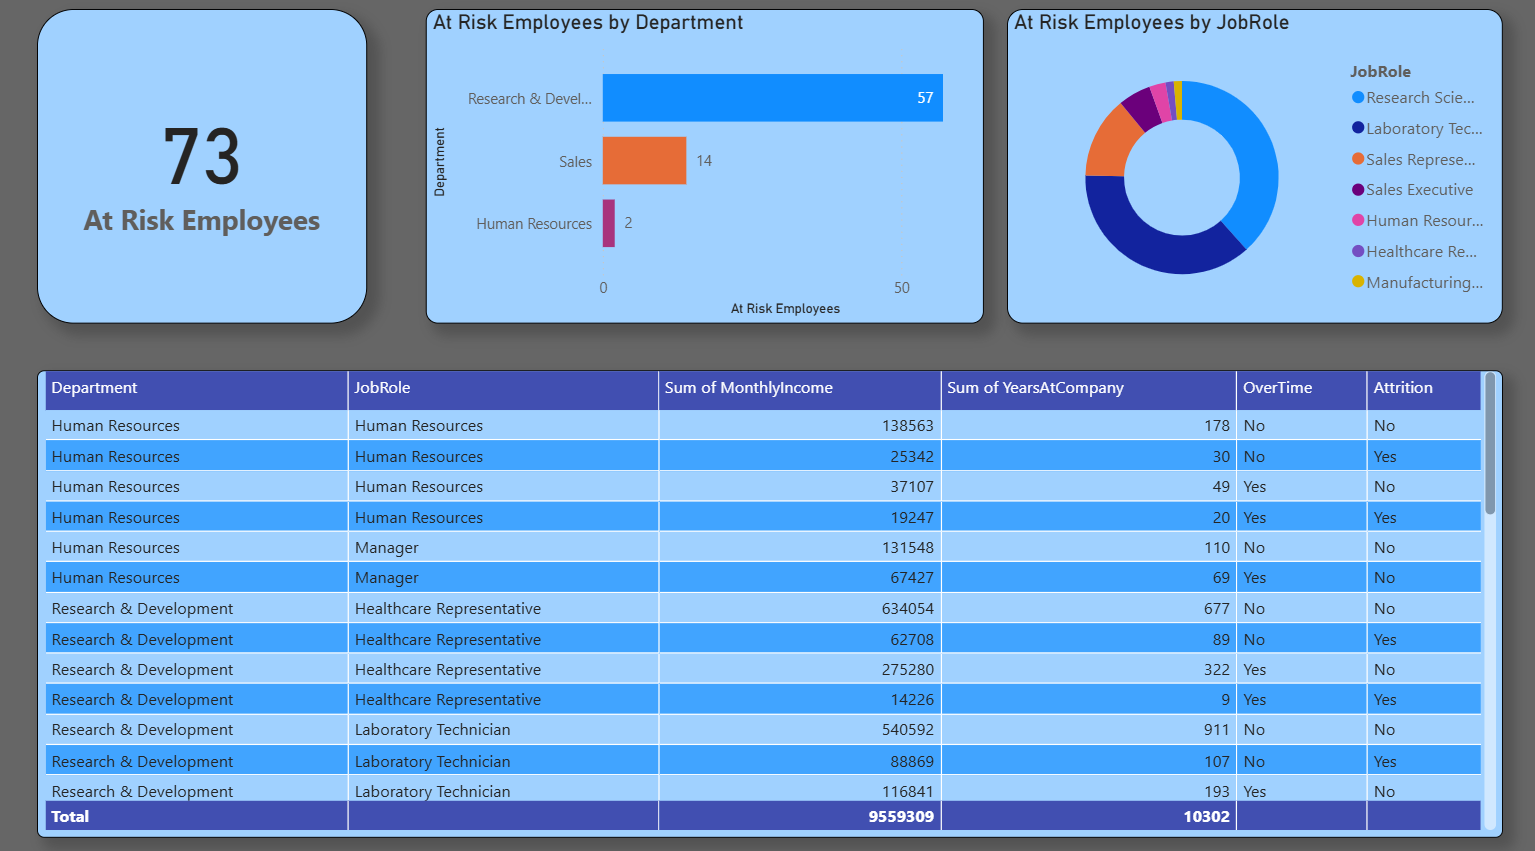

This screenshot's page, from the dashboard's own definition file:
{"tool":"powerbi","page":{"name":"Risk Profile","canvas":[1280,720],"ordinal":2},"visuals":[{"type":"card","fields":{"Values":["WA_Fn-UseC_-HR-Employee-Attrition.At Risk Employees"]},"box":[47.2,20.5,241.3,235.1],"z":0},{"type":"clusteredBarChart","fields":{"Category":["WA_Fn-UseC_-HR-Employee-Attrition.Department"],"Y":["WA_Fn-UseC_-HR-Employee-Attrition.At Risk Employees"]},"box":[352.1,20.5,439.4,235.1],"z":1000},{"type":"tableEx","fields":{"Values":["WA_Fn-UseC_-HR-Employee-Attrition.Department","WA_Fn-UseC_-HR-Employee-Attrition.JobRole","Sum(WA_Fn-UseC_-HR-Employee-Attrition.MonthlyIncome)","Sum(WA_Fn-UseC_-HR-Employee-Attrition.YearsAtCompany)","WA_Fn-UseC_-HR-Employee-Attrition.OverTime","WA_Fn-UseC_-HR-Employee-Attrition.Attrition"]},"box":[32.9,317.2,1204.2,384],"z":2000},{"type":"donutChart","fields":{"Category":["WA_Fn-UseC_-HR-Employee-Attrition.JobRole"],"Y":["WA_Fn-UseC_-HR-Employee-Attrition.At Risk Employees"]},"box":[845.9,20.5,391.1,235.1],"z":3000}]}

Visuals, with their boxes in screenshot pixels (x1, y1, x2, y2), scaled from the page's 1280x720 canvas onto the 1535x851 screenshot:
card - WA_Fn-UseC_-HR-Employee-Attrition.At Risk Employees: 57, 24, 346, 302
clusteredBarChart - WA_Fn-UseC_-HR-Employee-Attrition.Department x WA_Fn-UseC_-HR-Employee-Attrition.At Risk Employees: 422, 24, 949, 302
tableEx - WA_Fn-UseC_-HR-Employee-Attrition.Department x WA_Fn-UseC_-HR-Employee-Attrition.JobRole: 39, 375, 1484, 829
donutChart - WA_Fn-UseC_-HR-Employee-Attrition.JobRole x WA_Fn-UseC_-HR-Employee-Attrition.At Risk Employees: 1014, 24, 1483, 302
